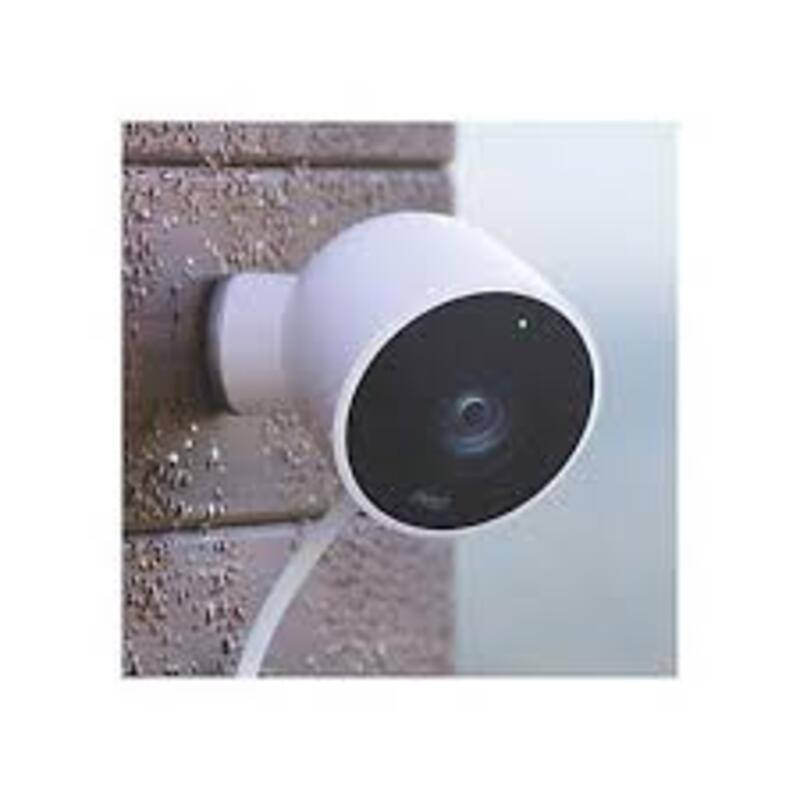nest: (284, 210, 602, 553)
